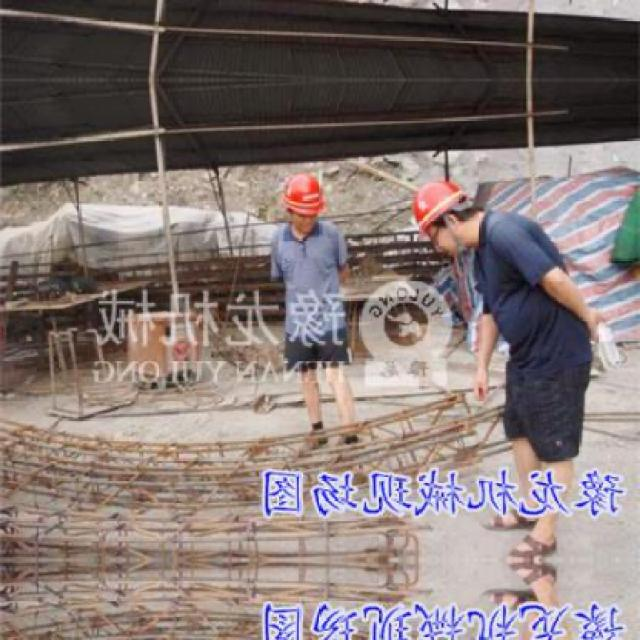con casco: (414, 143, 537, 282), (246, 151, 380, 266)
